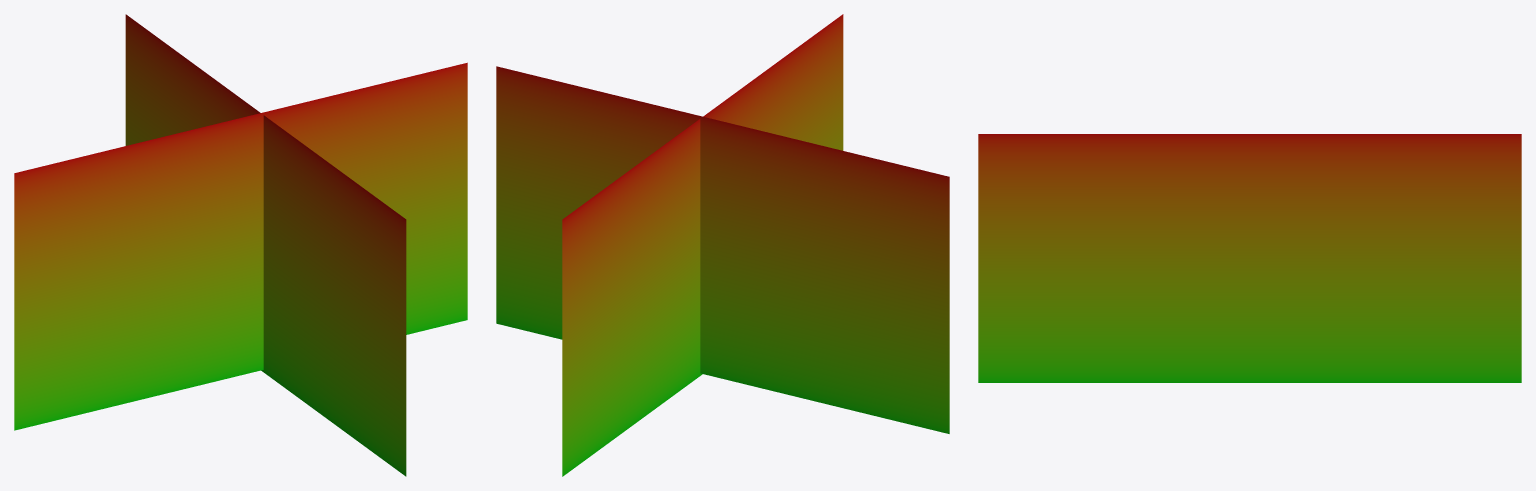
Rendered from Var1_LOD4.fbx.
3 renders of one model, left to right at view 1: azimuth 30°, elevation 25°; view 2: azimuth 150°, elevation 25°; view 3: azimuth 270°, elevation 25°, orthographic. The views are drawn at different scales.
Visible parts, largest first — view 1: _b84d_Var1_LOD4; view 2: _b84d_Var1_LOD4; view 3: _b84d_Var1_LOD4.
Boxes of the visible parts, <box> form: _b84d_Var1_LOD4: <box>14,14,467,476</box>; _b84d_Var1_LOD4: <box>496,14,949,476</box>; _b84d_Var1_LOD4: <box>978,134,1521,382</box>.
Bounding box in the file's own units: 330 × 181 × 354.
